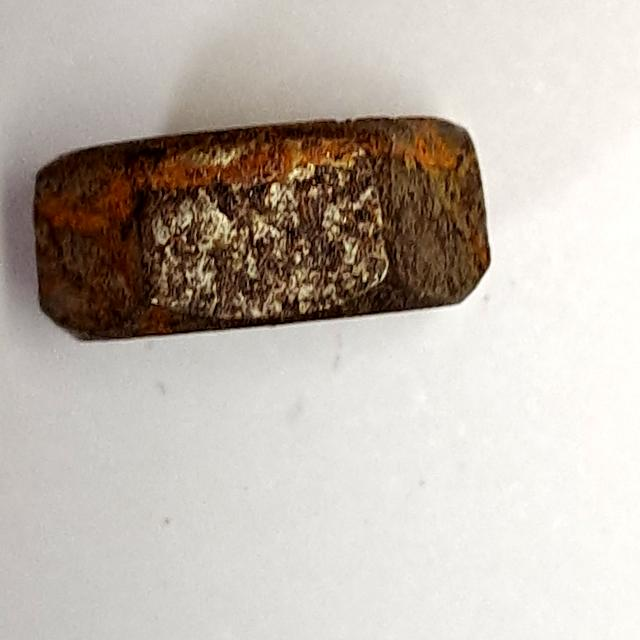Side_Rust: (21, 102, 514, 355)
